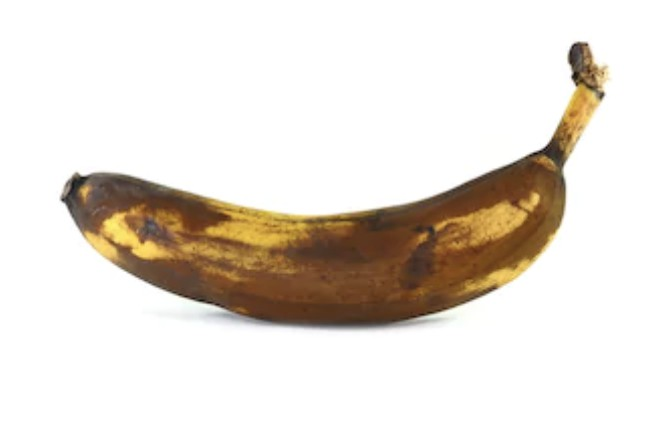rotten_banana: (59, 41, 609, 328)
